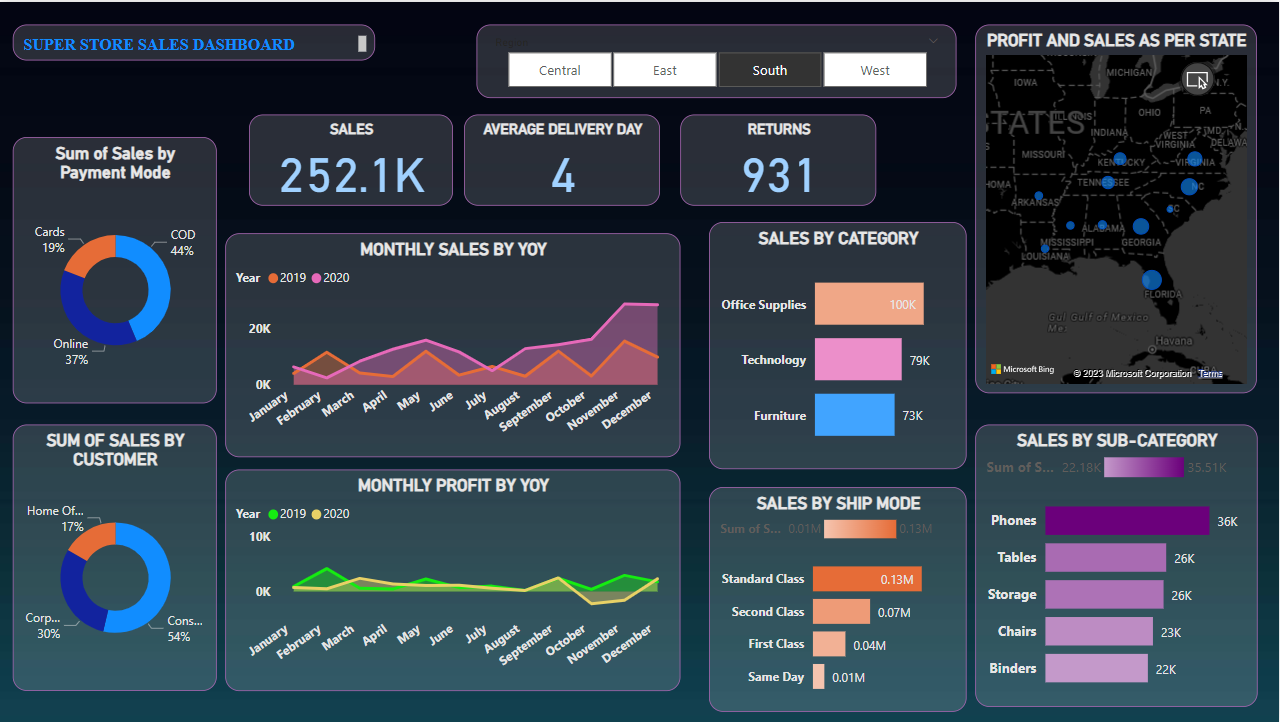

What the dashboard file says about the page in this screenshot:
{"tool":"powerbi","page":{"name":"Page 1","canvas":[1280,720],"ordinal":0},"visuals":[{"type":"clusteredBarChart","title":"SALES BY CATEGORY","fields":{"Y":["Sum(SuperStore_Sales_Dataset.Sales)"],"Category":["SuperStore_Sales_Dataset.Category"]},"box":[710,220,257.5,247.5],"z":0},{"type":"clusteredBarChart","title":"SALES BY SHIP MODE","fields":{"Y":["Sum(SuperStore_Sales_Dataset.Sales)"],"Category":["SuperStore_Sales_Dataset.Ship Mode"]},"box":[710,485,257.5,225],"z":1000},{"type":"clusteredBarChart","title":"SALES BY SUB-CATEGORY","fields":{"Y":["Sum(SuperStore_Sales_Dataset.Sales)"],"Category":["SuperStore_Sales_Dataset.Sub-Category"]},"box":[976.2,422.5,282.5,282.5],"z":2000},{"type":"areaChart","title":"MONTHLY SALES BY YOY","fields":{"Y":["Sum(SuperStore_Sales_Dataset.Sales)"],"Category":["SuperStore_Sales_Dataset.Order Date.Variation.Date Hierarchy.Month","SuperStore_Sales_Dataset.Order Date.Variation.Date Hierarchy.Day"],"Series":["SuperStore_Sales_Dataset.Order Date.Variation.Date Hierarchy.Year"]},"box":[226.2,231.2,455,223.8],"z":3000},{"type":"areaChart","title":"MONTHLY PROFIT BY YOY","fields":{"Category":["SuperStore_Sales_Dataset.Order Date.Variation.Date Hierarchy.Month","SuperStore_Sales_Dataset.Order Date.Variation.Date Hierarchy.Day"],"Series":["SuperStore_Sales_Dataset.Order Date.Variation.Date Hierarchy.Year"],"Y":["Sum(SuperStore_Sales_Dataset.Profit)"]},"box":[226.2,467.5,455,221.2],"z":4000},{"type":"map","title":"PROFIT AND SALES AS PER STATE","fields":{"Category":["SuperStore_Sales_Dataset.State"],"Size":["Sum(SuperStore_Sales_Dataset.Sales)"]},"box":[976.2,22.5,281.2,368.8],"z":5000},{"type":"donutChart","title":"SUM OF SALES BY CUSTOMER","fields":{"Category":["SuperStore_Sales_Dataset.Segment"],"Y":["Sum(SuperStore_Sales_Dataset.Sales)"]},"box":[13.8,422.5,203.8,266.2],"z":6000},{"type":"donutChart","fields":{"Category":["SuperStore_Sales_Dataset.Payment Mode"],"Y":["Sum(SuperStore_Sales_Dataset.Sales)"]},"box":[13.8,135,203.8,266.2],"z":7000},{"type":"slicer","fields":{"Values":["SuperStore_Sales_Dataset.Region"]},"box":[477.5,22.5,480,73.8],"z":8000},{"type":"textbox","box":[13.8,22.5,362.5,36.2],"z":9000},{"type":"card","title":"SALES","fields":{"Values":["Sum(SuperStore_Sales_Dataset.Sales)"]},"box":[250,112.5,203.8,91.2],"z":10000},{"type":"card","title":"AVERAGE DELIVERY DAY","fields":{"Values":["Avg(SuperStore_Sales_Dataset.Avgdelivery)"]},"box":[465,112.5,196.2,91.2],"z":11000},{"type":"card","title":"RETURNS","fields":{"Values":["CountNonNull(SuperStore_Sales_Dataset.Returns)"]},"box":[681.2,112.5,196.2,91.2],"z":12000}]}

Visuals, with their boxes in screenshot pixels (x1, y1, x2, y2), scaled from the page's 1280x720 canvas onto the 1280x722 screenshot:
"SALES BY CATEGORY" clusteredBarChart: l=710, t=221, r=968, b=469
"SALES BY SHIP MODE" clusteredBarChart: l=710, t=486, r=968, b=712
"SALES BY SUB-CATEGORY" clusteredBarChart: l=976, t=424, r=1259, b=707
"MONTHLY SALES BY YOY" areaChart: l=226, t=232, r=681, b=456
"MONTHLY PROFIT BY YOY" areaChart: l=226, t=469, r=681, b=691
"PROFIT AND SALES AS PER STATE" map: l=976, t=23, r=1257, b=392
"SUM OF SALES BY CUSTOMER" donutChart: l=14, t=424, r=218, b=691
donutChart - SuperStore_Sales_Dataset.Payment Mode x Sum(SuperStore_Sales_Dataset.Sales): l=14, t=135, r=218, b=402
slicer - SuperStore_Sales_Dataset.Region: l=478, t=23, r=958, b=97
textbox: l=14, t=23, r=376, b=59
"SALES" card: l=250, t=113, r=454, b=204
"AVERAGE DELIVERY DAY" card: l=465, t=113, r=661, b=204
"RETURNS" card: l=681, t=113, r=877, b=204
